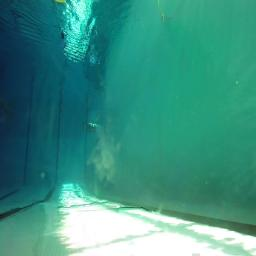front: (84, 122, 99, 132)
